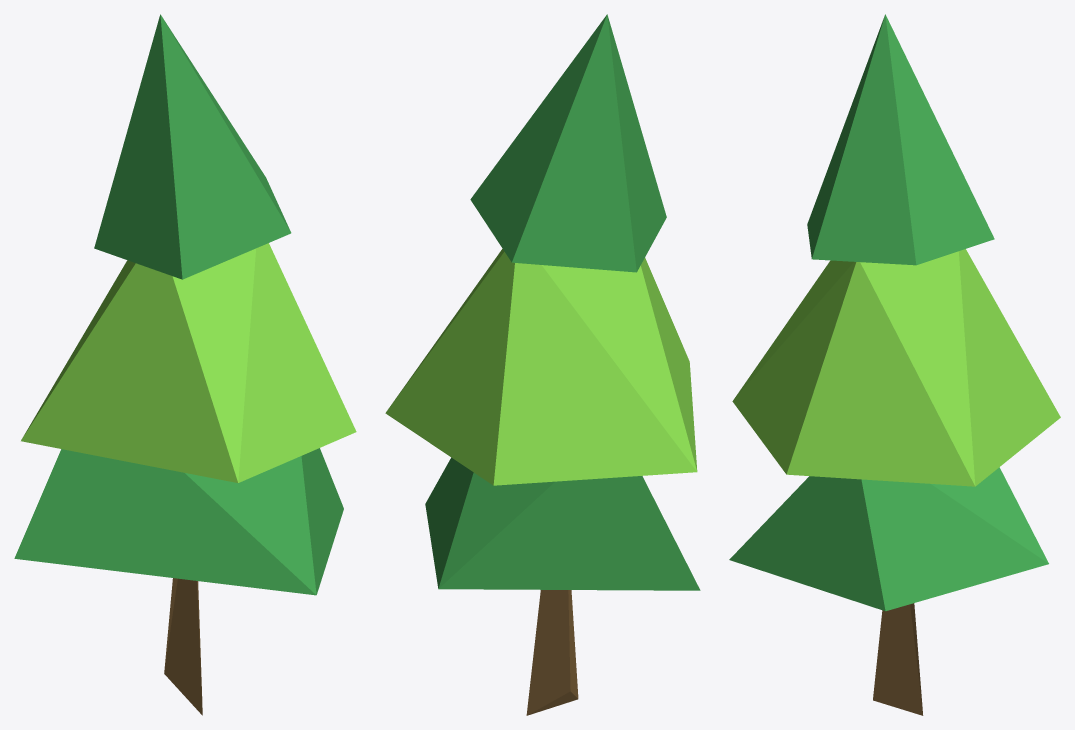
The model's file is PineTree.fbx.
The picture shows the model from 3 angles, left to right: view 1: azimuth 30°, elevation 25°; view 2: azimuth 150°, elevation 25°; view 3: azimuth 270°, elevation 25°; orthographic projection. The views are drawn at different scales.
Visible parts, largest first — view 1: Cone.001, Cone, Cone.002, Cube; view 2: Cone.001, Cone.002, Cone, Cube; view 3: Cone.001, Cone, Cone.002, Cube.
Boxes of the visible parts, box(x1,y1,x2,y2) form: Cone.001: box(21, 243, 356, 482); Cone: box(14, 448, 343, 595); Cone.002: box(94, 14, 291, 279); Cube: box(164, 578, 202, 715); Cone.001: box(385, 249, 697, 485); Cone.002: box(470, 14, 666, 272); Cone: box(425, 457, 700, 590); Cube: box(526, 590, 578, 715); Cone.001: box(732, 249, 1060, 486); Cone: box(729, 467, 1048, 611); Cone.002: box(807, 14, 994, 265); Cube: box(873, 603, 923, 715).
Size of the model in its own units: 631 by 1407 by 628.
